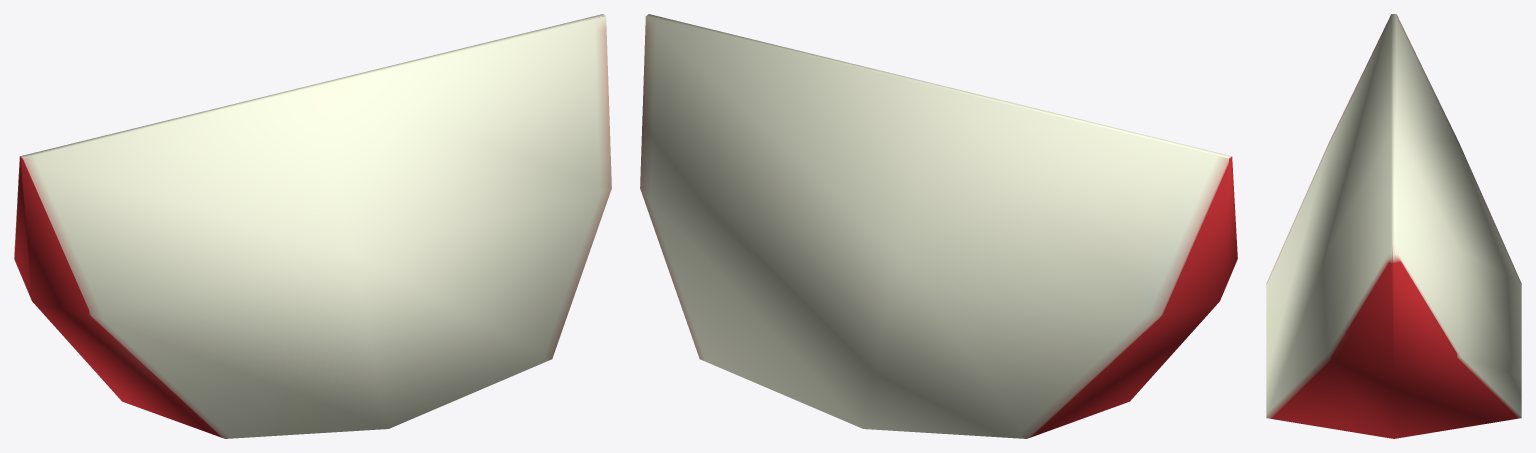
The model's file is apple-piece.fbx.
3 renders of one model, left to right at view 1: azimuth 30°, elevation 25°; view 2: azimuth 150°, elevation 25°; view 3: azimuth 270°, elevation 25°, orthographic. The views are drawn at different scales.
Visible parts, largest first — view 1: Cube; view 2: Cube; view 3: Cube.
Part boxes in pixels (left/top/right/bottom): Cube: left=14, top=14, right=611, bottom=438; Cube: left=640, top=14, right=1237, bottom=438; Cube: left=1266, top=14, right=1521, bottom=438.
Bounding box in the file's own units: 445 × 224 × 200.
Materials: 1 (1 with a texture image).
